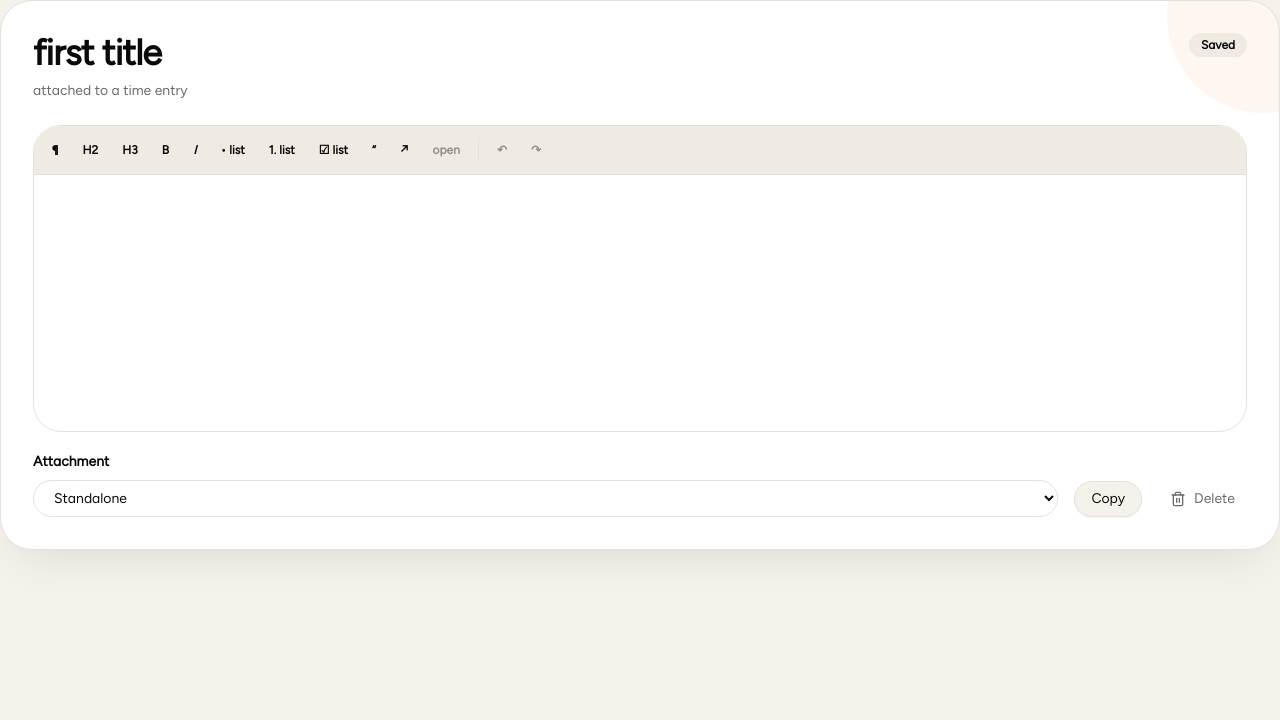
Test: NoteEditor › guards button-driven app navigation such as sign out
Replace the text in the field named "Note title" with "unsaved" at (603, 53), box [33,33,1173,73]
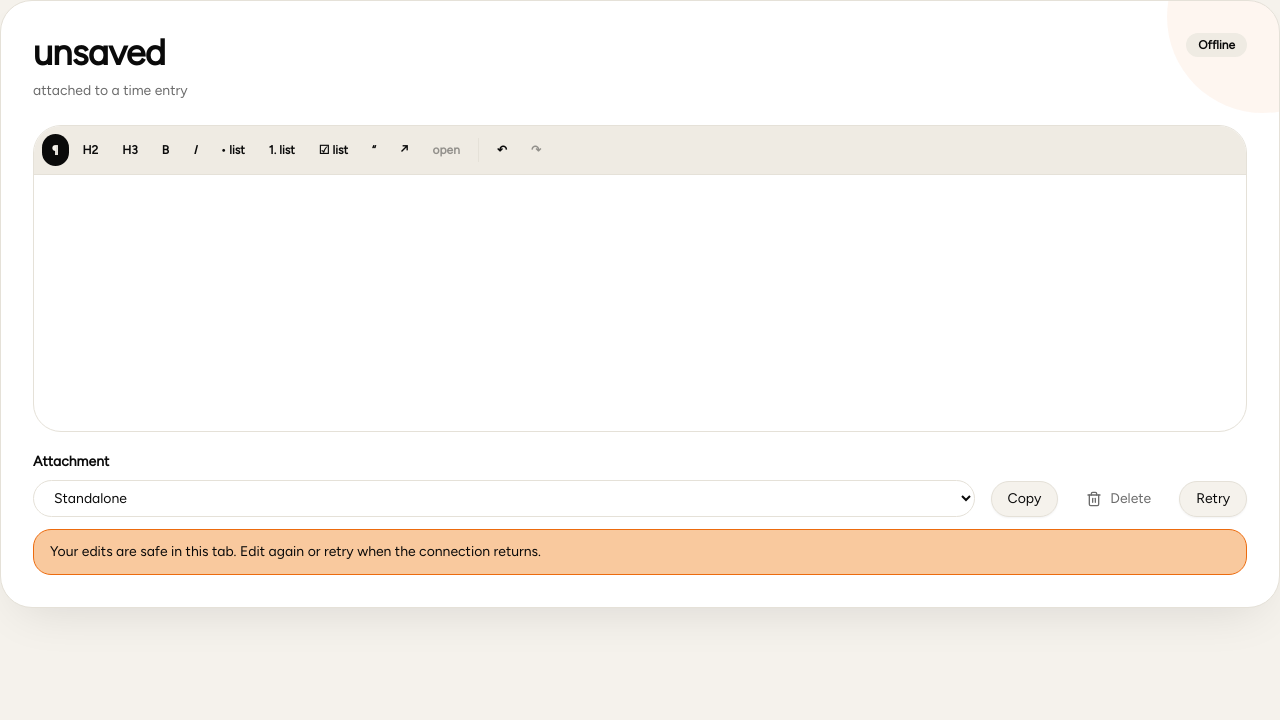
Expected: the message "Offline" is shown, [1186,33,1247,57]
